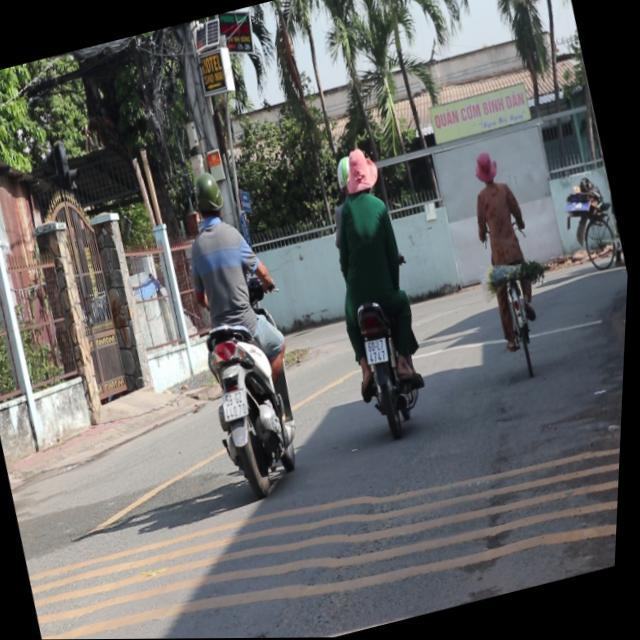helmet: (187, 166, 230, 225), (331, 152, 362, 199)
licenseplate: (153, 154, 332, 502), (295, 139, 453, 444)
motorcyclist: (338, 142, 385, 199)
nohelmet: (222, 387, 252, 420), (366, 336, 392, 364)
